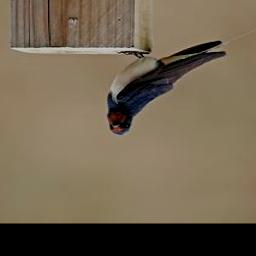Swallow: (105, 26, 256, 139)
